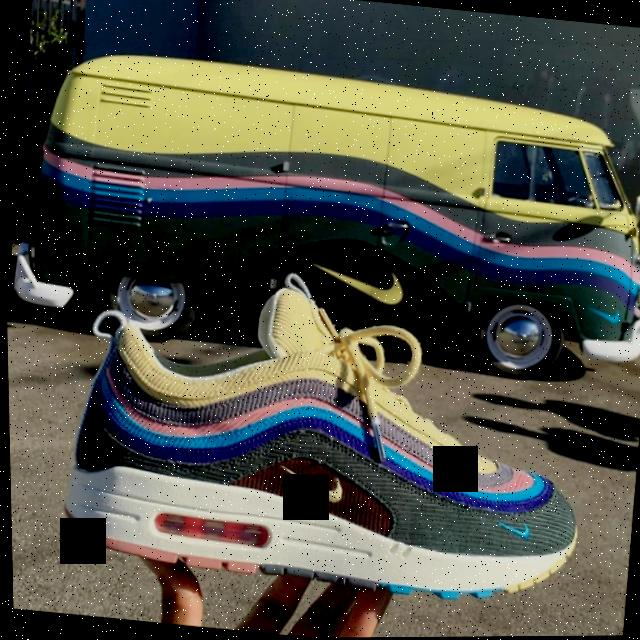shoes: (39, 237, 640, 640)
